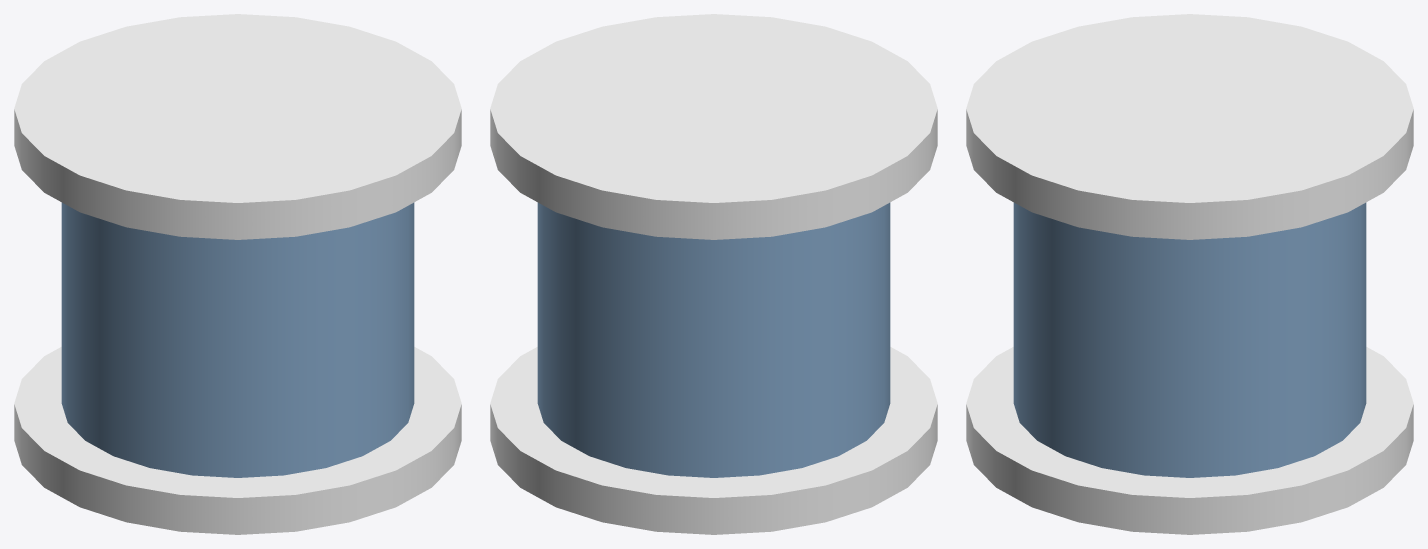
File: obstaculo_carrete_pequeno.glb
3 views of the same model, side by side, from view 1: azimuth 30°, elevation 25°; view 2: azimuth 150°, elevation 25°; view 3: azimuth 270°, elevation 25° (orthographic).
Parts seen in each view (by area): view 1: Disco (×2), Hilo; view 2: Disco (×2), Hilo; view 3: Disco (×2), Hilo.
Boxes of the visible parts, x1,y1,x2,y2 form: Disco (×2): (14,14,461,534); Hilo: (61,202,414,477); Disco (×2): (490,14,937,534); Hilo: (537,202,890,477); Disco (×2): (966,14,1413,534); Hilo: (1013,202,1366,477).
Bounding box in the file's own units: 0.66 × 0.54 × 0.66.
